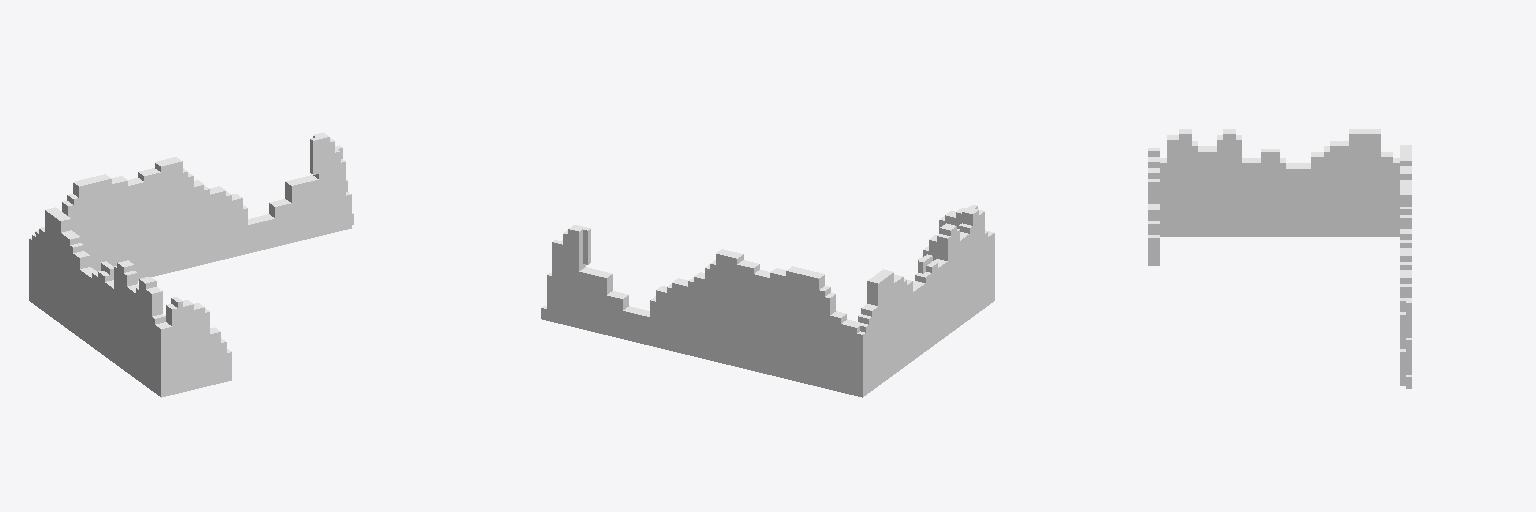
Rendered from SkeletonLair-6.obj.
The picture shows the model from 3 angles: view 1: azimuth 30°, elevation 25°; view 2: azimuth 150°, elevation 25°; view 3: azimuth 270°, elevation 25°; orthographic projection.
Parts seen in each view (by area): view 1: object 1; view 2: object 1; view 3: object 1.
Boxes of the visible parts, x1=… form: object 1: x1=29, y1=132, x2=353, y2=397; object 1: x1=541, y1=205, x2=994, y2=397; object 1: x1=1148, y1=129, x2=1411, y2=388.
Bounding box in the file's own units: 5.9 × 1.9 × 4.2.